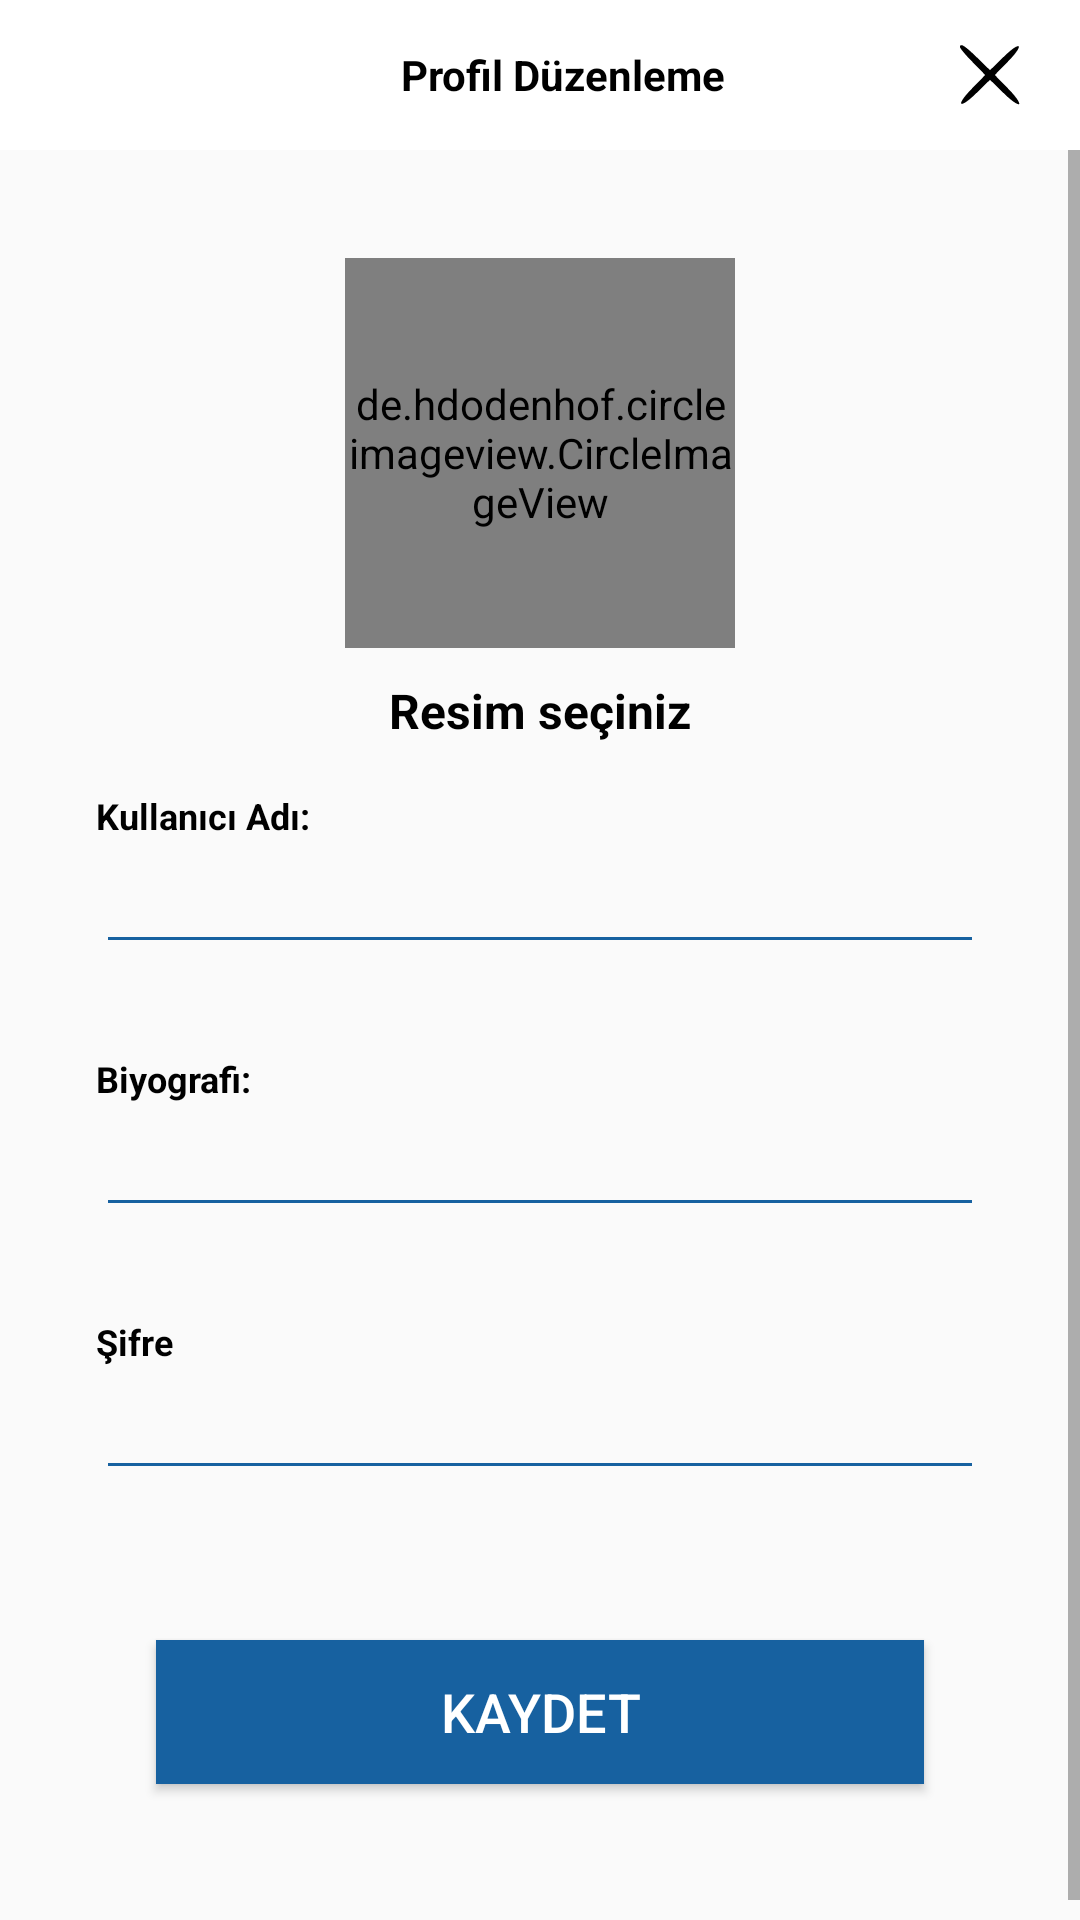

Point at icon controls on the screen. Image size 1080px x 1920px, points as (x,y).
multiplication: (990,75)
